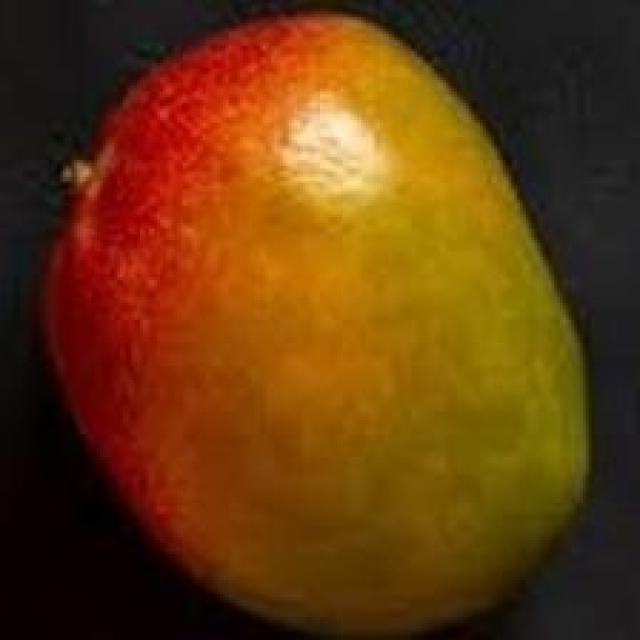Good_Mango: (34, 9, 589, 640)
